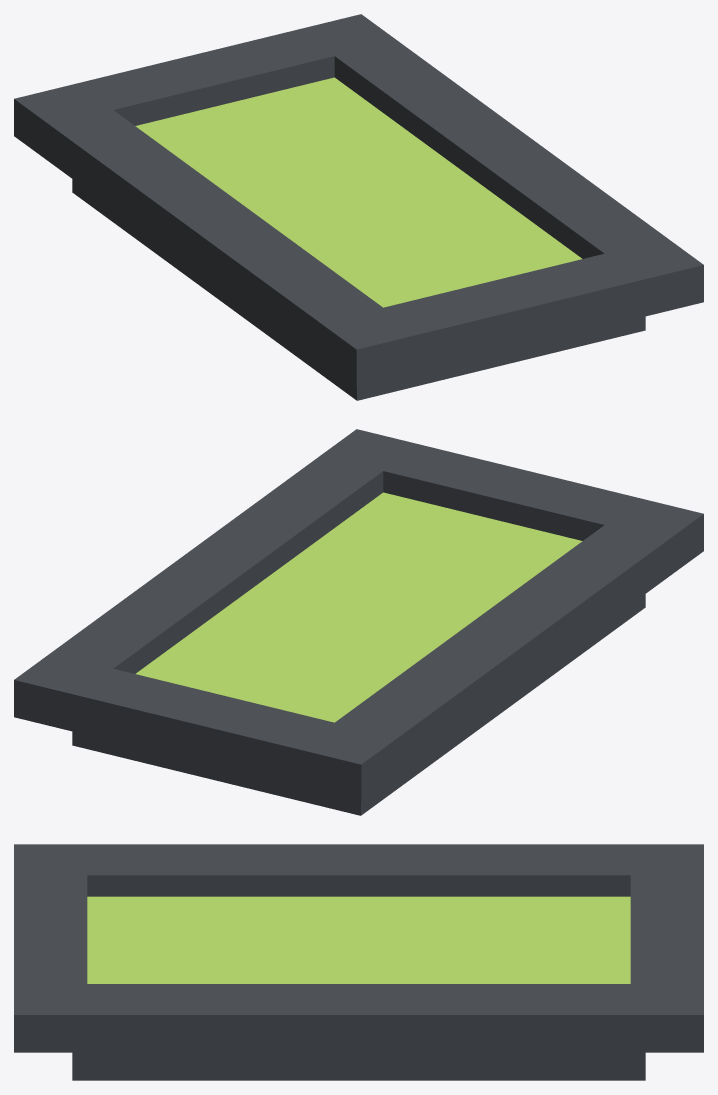
The model's file is Jardinera.fbx.
The picture shows the model from 3 angles, top to bottom: view 1: azimuth 30°, elevation 25°; view 2: azimuth 150°, elevation 25°; view 3: azimuth 270°, elevation 25°; orthographic projection.
Visible parts, largest first — view 1: Plane.016; view 2: Plane.016; view 3: Plane.016.
Part boxes in pixels (x1,y1,x2,y2): Plane.016: (14,14,703,400); Plane.016: (14,429,703,815); Plane.016: (14,844,703,1080).
Bounding box in the file's own units: 296 × 64.75 × 505.
